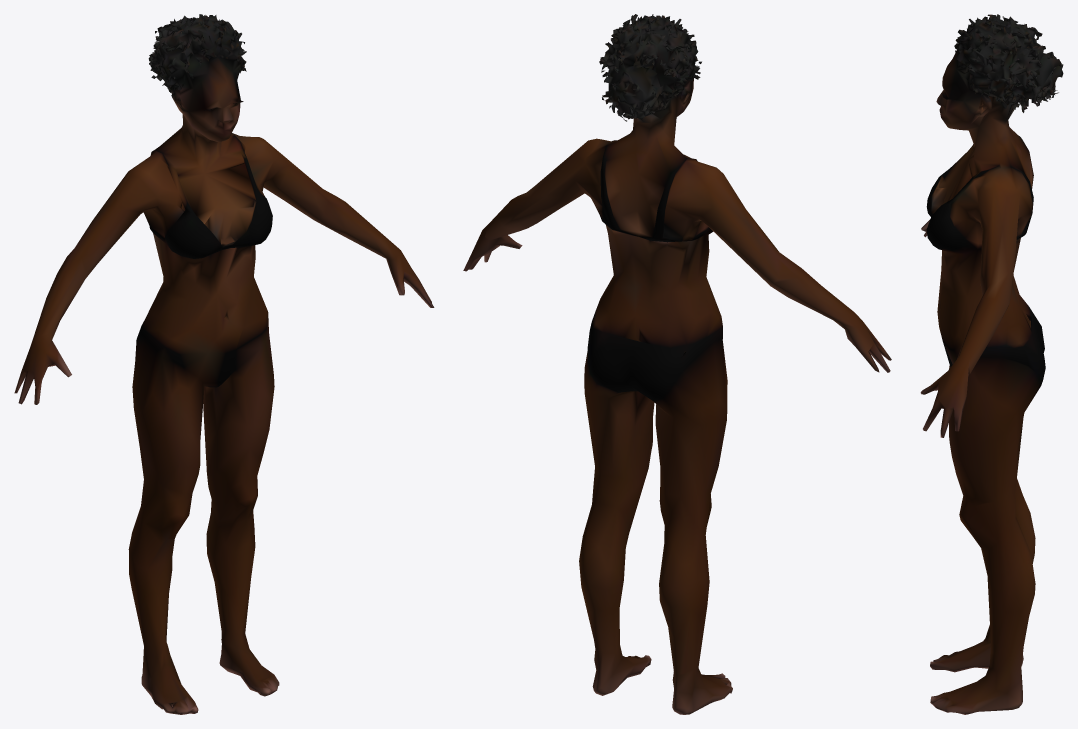
The model's file is 3d_male_model_LOD1.glb.
3 views of the same model, side by side, from view 1: azimuth 30°, elevation 25°; view 2: azimuth 150°, elevation 25°; view 3: azimuth 270°, elevation 25° (orthographic).
Visible parts, largest first — view 1: geometry_0; view 2: geometry_0; view 3: geometry_0.
Part boxes in pixels (left/top/right/bottom): geometry_0: left=14, top=14, right=434, bottom=714; geometry_0: left=463, top=14, right=891, bottom=714; geometry_0: left=920, top=14, right=1063, bottom=714.
Size of the model in its own units: 0.6495 by 0.9975 by 0.1937.
